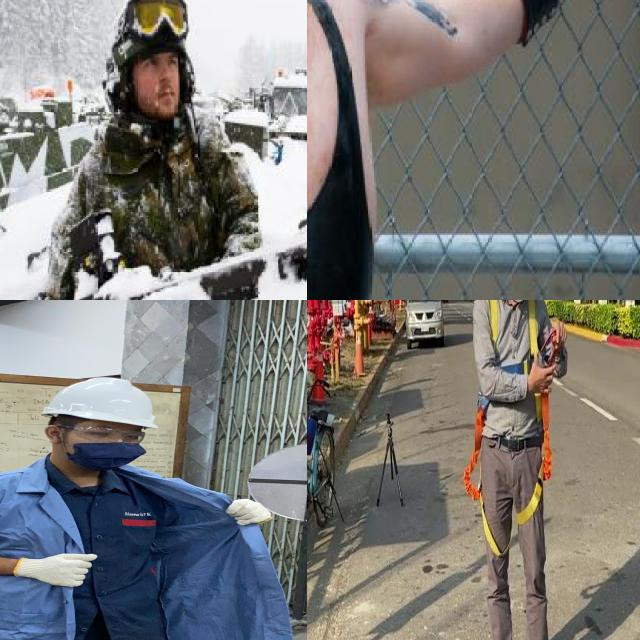Harness: (463, 406, 509, 558), (517, 394, 553, 526), (488, 300, 540, 374)
No_Glasses: (139, 51, 184, 72)
face_mask: (60, 419, 150, 468)
face_nomask: (133, 47, 186, 110)
glasses: (120, 0, 189, 47), (59, 418, 152, 447)
hand_glove: (11, 550, 108, 592), (217, 492, 279, 526)
head_helmet: (36, 374, 160, 426)
person: (0, 369, 301, 640), (51, 0, 268, 300), (307, 0, 410, 300)
